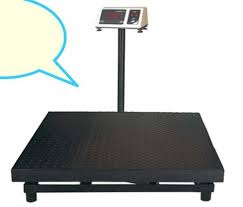Industrial Scale: (9, 6, 225, 202)
